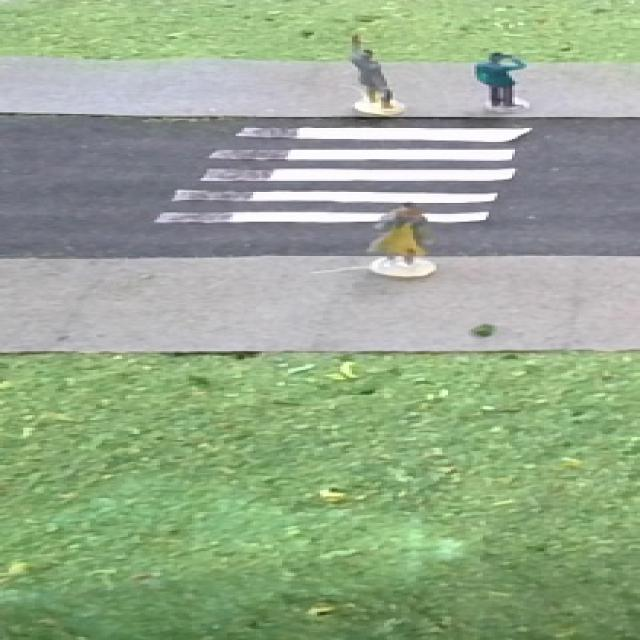person: (326, 29, 417, 118), (361, 195, 452, 282), (465, 47, 542, 116)
